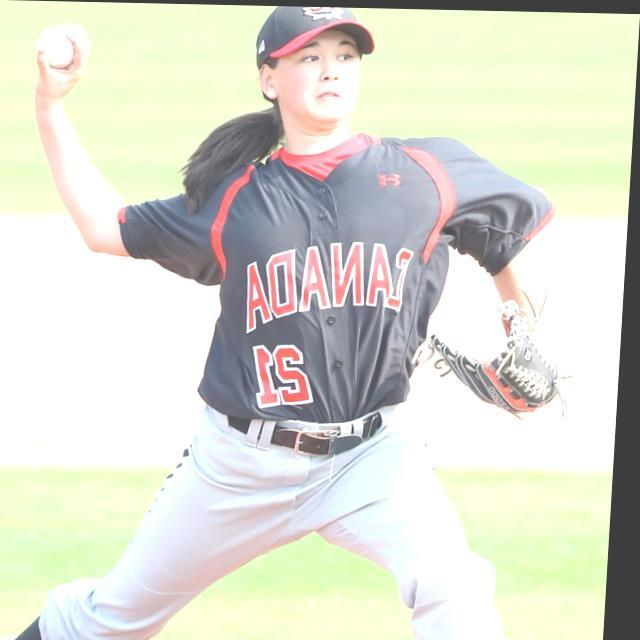hat: (256, 8, 373, 61)
